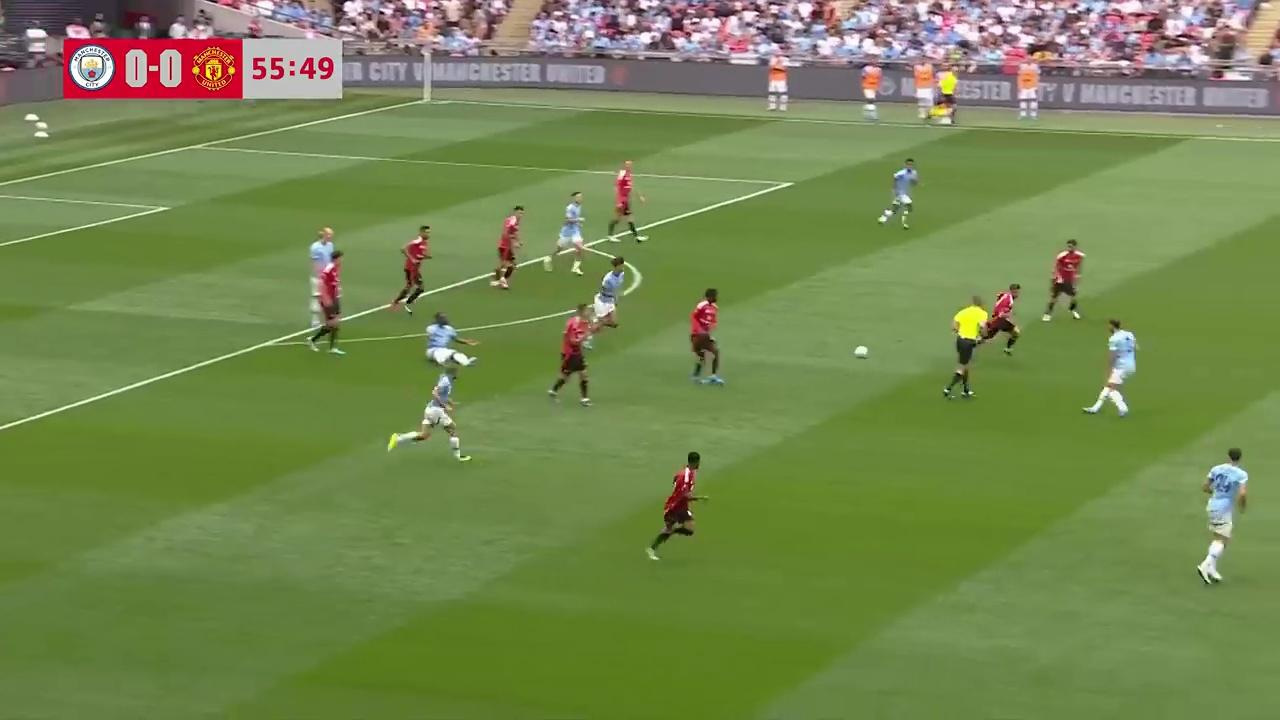ball: (852, 342, 870, 359)
player: (389, 365, 468, 459), (1197, 448, 1248, 585), (645, 451, 703, 560), (1084, 317, 1138, 418), (548, 307, 594, 407), (388, 225, 432, 316), (588, 256, 639, 333), (971, 282, 1022, 358), (306, 259, 346, 354), (1042, 238, 1084, 322), (424, 310, 479, 374), (689, 287, 723, 386), (546, 191, 587, 273), (608, 159, 646, 243), (878, 157, 920, 229), (491, 205, 524, 289), (309, 226, 343, 303)
referee: (942, 293, 994, 400), (933, 68, 958, 127)
